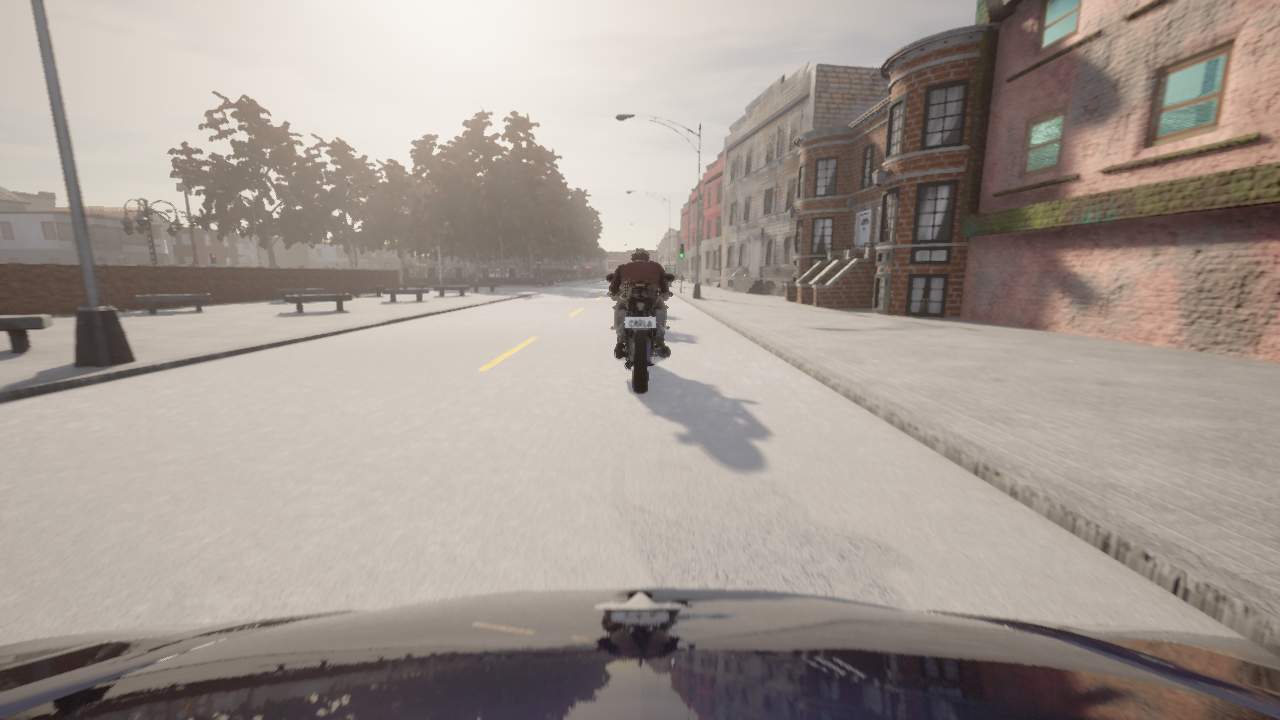cyclist: (0, 588, 1279, 719), (606, 274, 673, 392), (534, 274, 558, 287)
pedestrian: (430, 266, 436, 285), (473, 275, 478, 283)
